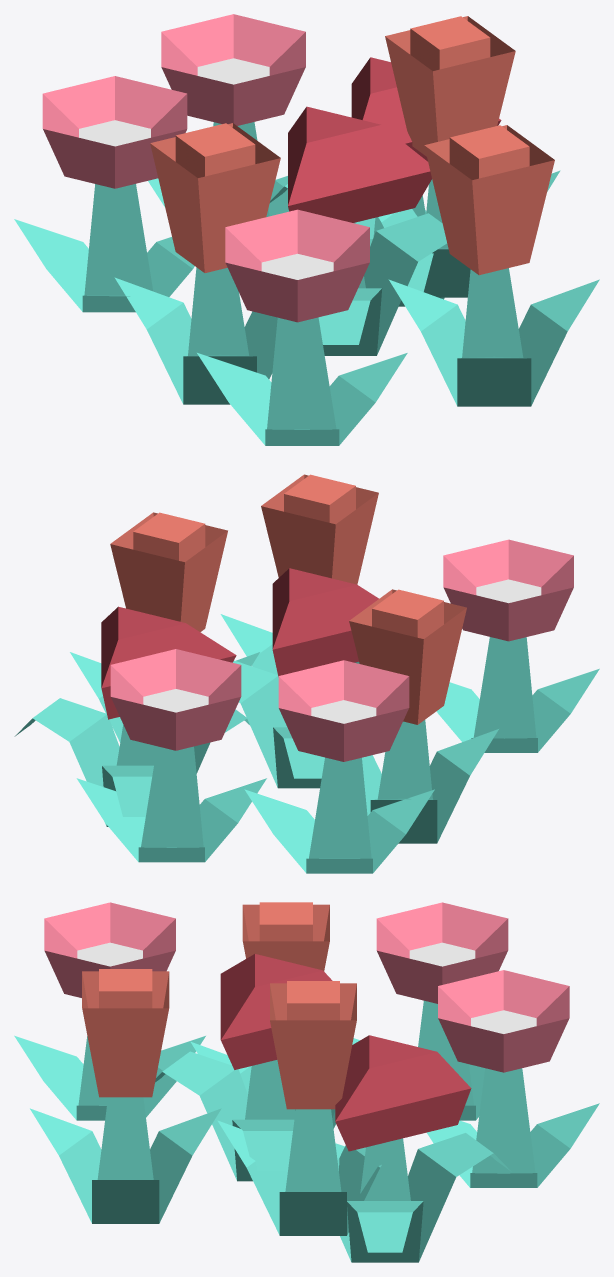
File: flowerRed03.fbx
The picture shows the model from 3 angles, top to bottom: view 1: azimuth 30°, elevation 25°; view 2: azimuth 150°, elevation 25°; view 3: azimuth 270°, elevation 25°; orthographic projection. The views are drawn at different scales.
Parts seen in each view (by area): view 1: flower_purpleB3; view 2: flower_purpleB3; view 3: flower_purpleB3.
Part boxes in pixels (x1,y1,x2,y2): flower_purpleB3: (14,14,599,445); flower_purpleB3: (14,474,599,873); flower_purpleB3: (14,902,599,1262).
Size of the model in its own units: 4.55 by 2.76 by 5.51.
